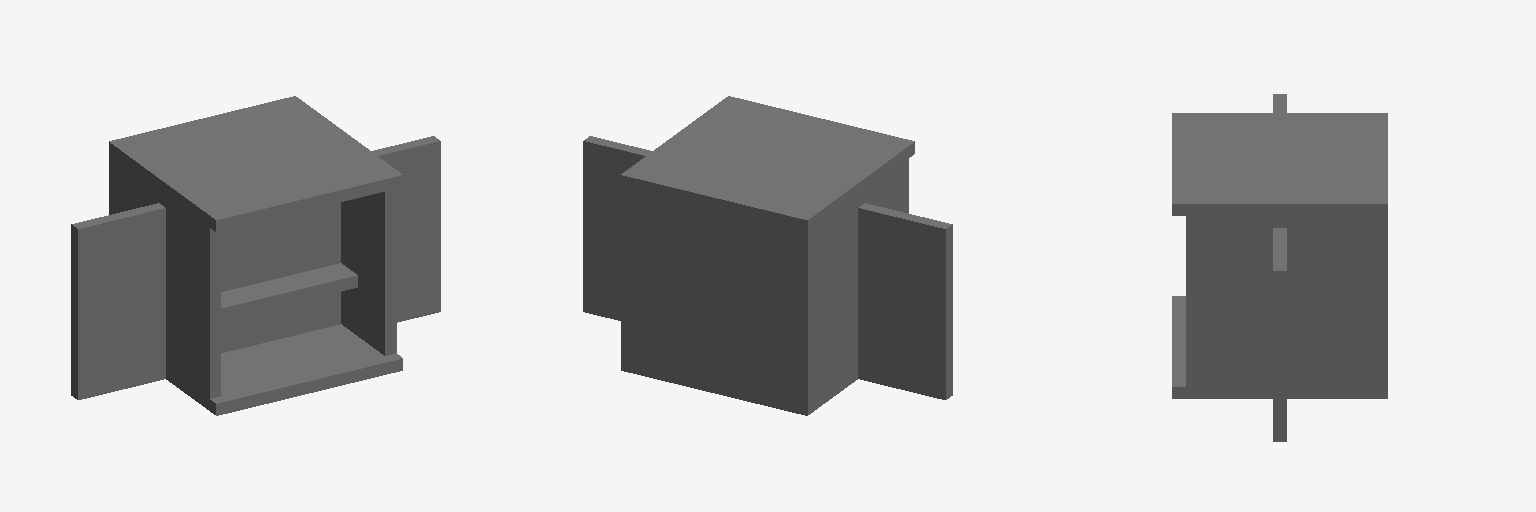
The model's file is cabinetwithdoors.obj.
3 renders of one model, left to right at view 1: azimuth 30°, elevation 25°; view 2: azimuth 150°, elevation 25°; view 3: azimuth 270°, elevation 25°, orthographic.
Visible parts, largest first — view 1: Top0, leftdoor, Left0, rightdoor, Inner_Bottom0, rightdoubledoor, Inner_Right0, Face2, Face3, Bottom_Shelf_Top0, Face0, Face1 (+2 smaller); view 2: Back0, Top0, leftdoor, Left0, rightdoor; view 3: Right0, Top0, rightdoor, Inner_Bottom0.
Boxes of the visible parts, x1=… form: Top0: x1=109, y1=96, x2=402, y2=219; leftdoor: x1=71, y1=203, x2=264, y2=399; Left0: x1=109, y1=142, x2=215, y2=414; rightdoor: x1=255, y1=136, x2=440, y2=341; Inner_Bottom0: x1=210, y1=324, x2=402, y2=403; rightdoubledoor: x1=255, y1=202, x2=340, y2=342; Inner_Right0: x1=341, y1=192, x2=384, y2=355; Face2: x1=216, y1=175, x2=402, y2=232; Face3: x1=216, y1=359, x2=402, y2=415; Bottom_Shelf_Top0: x1=221, y1=263, x2=356, y2=308; Face0: x1=385, y1=189, x2=396, y2=355; Face1: x1=210, y1=228, x2=220, y2=398; Back0: x1=621, y1=175, x2=807, y2=415; Top0: x1=621, y1=96, x2=914, y2=219; leftdoor: x1=858, y1=203, x2=952, y2=399; Left0: x1=808, y1=142, x2=914, y2=414; rightdoor: x1=583, y1=136, x2=651, y2=320; Right0: x1=1172, y1=204, x2=1387, y2=398; Top0: x1=1172, y1=113, x2=1387, y2=203; rightdoor: x1=1273, y1=228, x2=1286, y2=441; Inner_Bottom0: x1=1172, y1=296, x2=1185, y2=386.
Bounding box in the file's own units: 1.94 × 1 × 1.